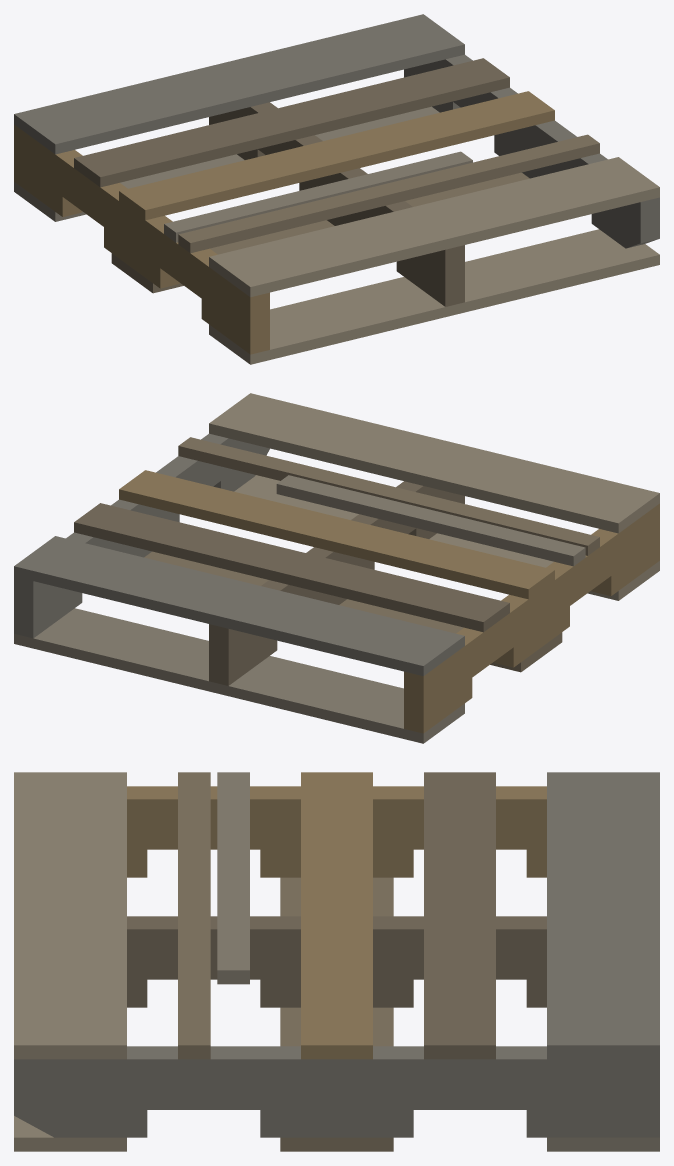
File: pallet-small.glb
3 views of the same model, one above another, from view 1: azimuth 30°, elevation 25°; view 2: azimuth 150°, elevation 25°; view 3: azimuth 270°, elevation 25° (orthographic). The views are drawn at different scales.
Visible parts, largest first — view 1: PalletSmall; view 2: PalletSmall; view 3: PalletSmall.
Part boxes in pixels (x1,y1,x2,y2): PalletSmall: (14, 14, 659, 364); PalletSmall: (14, 393, 659, 743); PalletSmall: (14, 772, 659, 1151).
Size of the model in its own units: 0.8 by 0.145 by 0.8.
